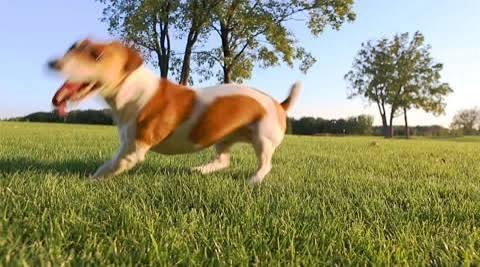adult_dog: (40, 36, 306, 188)
